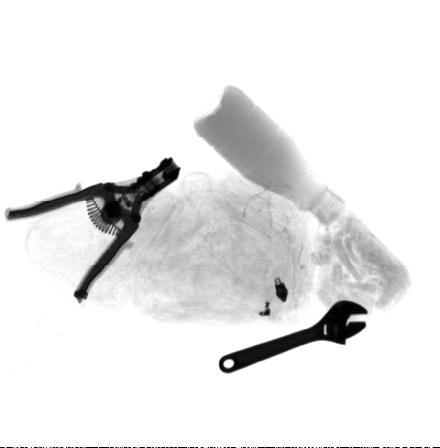Pliers: (4, 156, 184, 306)
Wrench: (218, 299, 370, 373)
